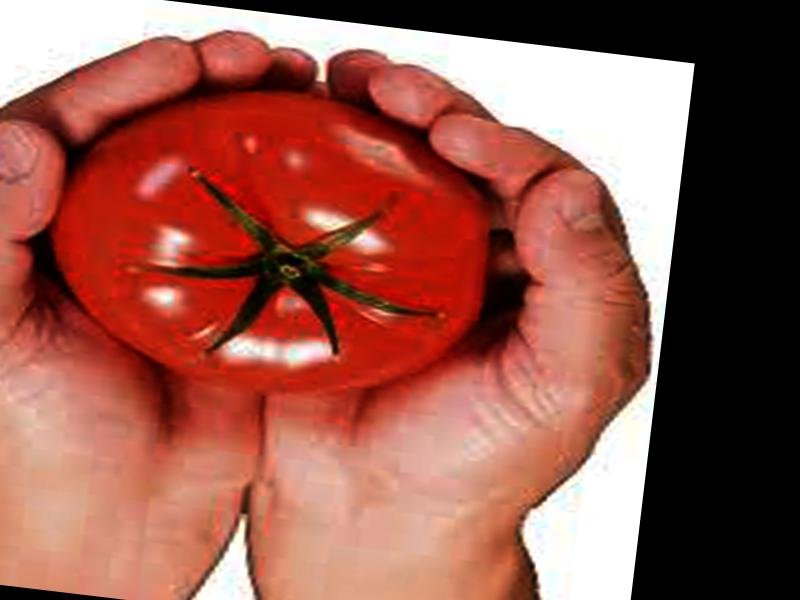Tomato: (34, 68, 510, 412)
